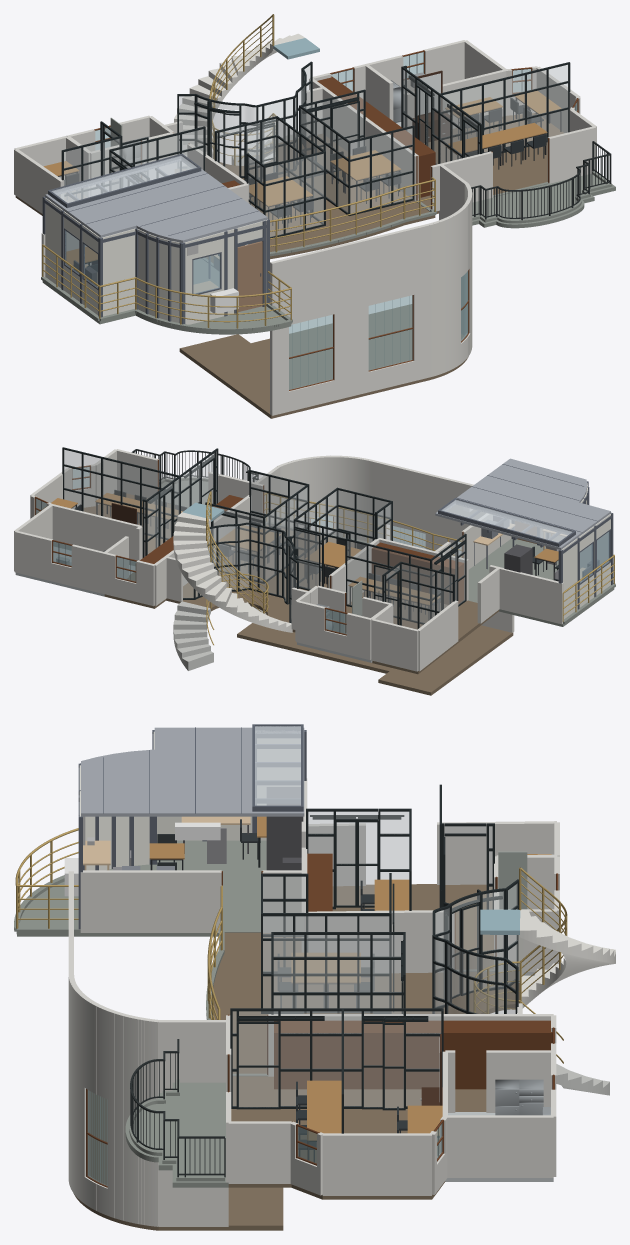
Rendered from first-floor.glb.
The picture shows the model from 3 angles, top to bottom: view 1: azimuth 30°, elevation 25°; view 2: azimuth 150°, elevation 25°; view 3: azimuth 270°, elevation 25°; orthographic projection. The views are drawn at different scales.
Parts seen in each view (by area): view 1: First Floor - Planning Base 08 | joined wall display | web, Duplex context | ground commons floor | web, FF02 C03 | Roof | Roof_PUF | web, FF-04 | floor | web, FF06 BALCONY B02 | Level balcony slab - estimated outline | , FF-06 | floor | web, PB04 | First Floor - continuous UP flight | web, FF02 C03 | Panels | Panel_8 | web, FF02 C03 | Panels | Panel_0 | web, FF02 C03 | Panels | Panel_1 | web, FF-02 | floor | web, FF02 C03 | Roof | Skylight_polycarbonate | web (+14 smaller); view 2: First Floor - Planning Base 08 | joined wall display | web, FF02 C03 | Roof | Roof_PUF | web, Duplex context | ground commons floor | web, PB04 | First Floor - continuous UP flight | web, FF-04 | floor | web, FF-03 | FF03-CUPBOARD | web, PB04 | First Floor - incoming last 7 steps only | web, FF02 C03 | Panels | Panel_0 | web, FF02 C03 | Roof | Skylight_polycarbonate | web, FF-02 | floor | web, FF-03 | floor | web, FF02 C03 | Roof | Skylight_kerb | web (+31 smaller); view 3: First Floor - Planning Base 08 | joined wall display | web, FF-06 | FF06-CUPBOARD | web, FF02 C03 | Roof | Roof_PUF | web, FF-04 | floor | web, FF06 BALCONY B02 | Level balcony slab - estimated outline | , FF-06 | floor | web, FF-02 | floor | web, Duplex context | ground commons floor | web, FF02 C03 | Roof | Skylight_polycarbonate | web, FF-03 | floor | web, PB04 | First Floor - continuous UP flight | web, FF02 C03 | Panels | Panel_0 | web (+40 smaller).
Part boxes in pixels (x1=…): First Floor - Planning Base 08 | joined wall display | web: x1=14, y1=40, x2=596, y2=415; Duplex context | ground commons floor | web: x1=179, y1=304, x2=468, y2=418; FF02 C03 | Roof | Roof_PUF | web: x1=45, y1=159, x2=267, y2=242; FF-04 | floor | web: x1=175, y1=134, x2=435, y2=262; FF06 BALCONY B02 | Level balcony slab - estimated outline | : x1=472, y1=173, x2=615, y2=228; FF-06 | floor | web: x1=418, y1=113, x2=563, y2=213; PB04 | First Floor - continuous UP flight | web: x1=174, y1=33, x2=304, y2=165; FF02 C03 | Panels | Panel_8 | web: x1=184, y1=219, x2=267, y2=324; FF02 C03 | Panels | Panel_0 | web: x1=45, y1=198, x2=99, y2=314; FF02 C03 | Panels | Panel_1 | web: x1=102, y1=228, x2=135, y2=316; FF-02 | floor | web: x1=42, y1=258, x2=291, y2=334; FF02 C03 | Roof | Skylight_polycarbonate | web: x1=51, y1=155, x2=197, y2=202; First Floor - Planning Base 08 | joined wall display | web: x1=14, y1=449, x2=563, y2=671; FF02 C03 | Roof | Roof_PUF | web: x1=435, y1=458, x2=610, y2=549; Duplex context | ground commons floor | web: x1=237, y1=614, x2=513, y2=695; PB04 | First Floor - continuous UP flight | web: x1=173, y1=512, x2=292, y2=632; FF-04 | floor | web: x1=166, y1=525, x2=354, y2=632; FF-03 | FF03-CUPBOARD | web: x1=371, y1=542, x2=464, y2=604; PB04 | First Floor - incoming last 7 steps only | web: x1=173, y1=601, x2=213, y2=670; FF02 C03 | Panels | Panel_0 | web: x1=561, y1=514, x2=610, y2=618; FF02 C03 | Roof | Skylight_polycarbonate | web: x1=441, y1=499, x2=572, y2=542; FF-02 | floor | web: x1=468, y1=538, x2=614, y2=626; FF-03 | floor | web: x1=346, y1=591, x2=498, y2=674; FF02 C03 | Roof | Skylight_kerb | web: x1=438, y1=498, x2=575, y2=546; First Floor - Planning Base 08 | joined wall display | web: x1=68, y1=778, x2=559, y2=1226; FF-06 | FF06-CUPBOARD | web: x1=274, y1=1020, x2=552, y2=1089; FF02 C03 | Roof | Roof_PUF | web: x1=81, y1=727, x2=304, y2=816; FF-04 | floor | web: x1=211, y1=932, x2=519, y2=1073; FF06 BALCONY B02 | Level balcony slab - estimated outline | : x1=125, y1=1082, x2=228, y2=1187; FF-06 | floor | web: x1=228, y1=1076, x2=486, y2=1199; FF-02 | floor | web: x1=16, y1=840, x2=266, y2=936; Duplex context | ground commons floor | web: x1=73, y1=1091, x2=283, y2=1230; FF02 C03 | Roof | Skylight_polycarbonate | web: x1=255, y1=726, x2=300, y2=805; FF-03 | floor | web: x1=332, y1=884, x2=493, y2=969; PB04 | First Floor - continuous UP flight | web: x1=520, y1=909, x2=615, y2=1008; FF02 C03 | Panels | Panel_0 | web: x1=157, y1=738, x2=300, y2=840.
Bounding box in the file's own units: 18.49 × 7.81 × 13.13.
